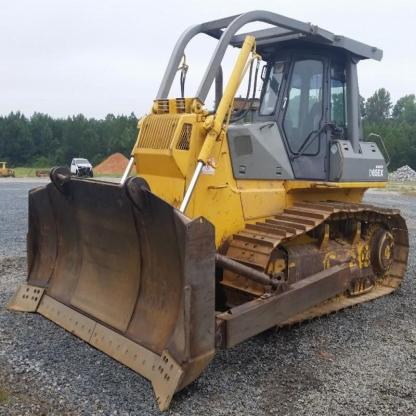bull_dozer/loader/grader: (20, 7, 416, 397)
